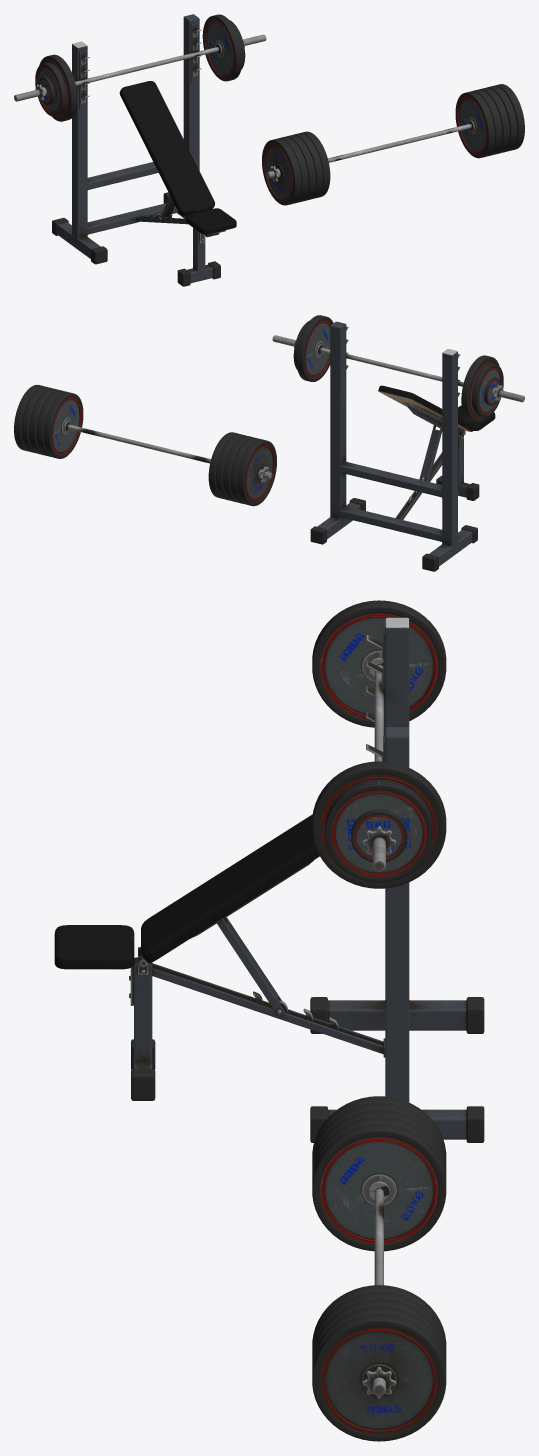
File: dumbbell_barbell_bench_-_9mb.glb
The picture shows the model from 3 angles, top to bottom: view 1: azimuth 30°, elevation 25°; view 2: azimuth 150°, elevation 25°; view 3: azimuth 270°, elevation 25°; orthographic projection. The views are drawn at different scales.
Parts seen in each view (by area): view 1: base, r_2, r, l, 01_2__0; view 2: base, r_2, l, r, 01_2__0; view 3: base, r_2, r, l, 01_2__0.
Part boxes in pixels (box(x1,y1,x2,y2)): base: box(52, 14, 236, 286); r_2: box(262, 84, 524, 205); r: box(202, 14, 245, 81); l: box(35, 54, 77, 121); 01_2__0: box(14, 34, 266, 101); base: box(310, 321, 495, 571); r_2: box(14, 384, 276, 506); l: box(461, 355, 503, 422); r: box(293, 315, 333, 381); 01_2__0: box(272, 335, 524, 402); base: box(54, 617, 484, 1142); r_2: box(312, 1096, 446, 1441); r: box(312, 761, 446, 888); l: box(312, 600, 446, 727); 01_2__0: box(362, 658, 395, 871).
Size of the model in its own units: 4.32 by 1.67 by 1.6.
1 material, 1 textured.
